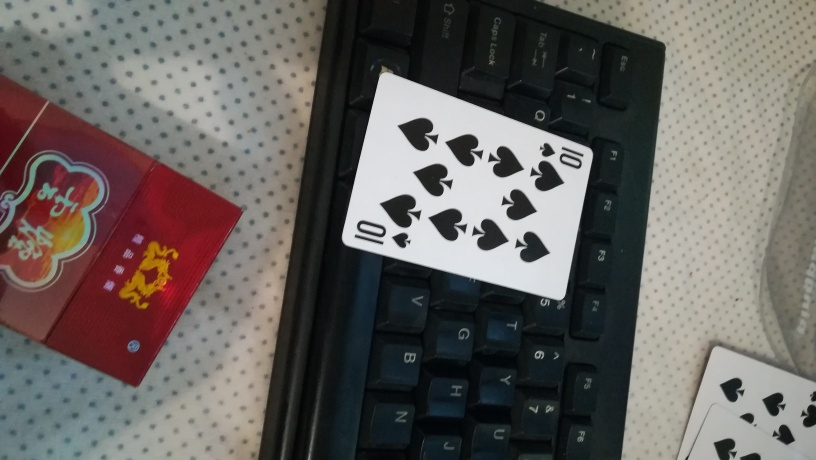ht 10: (338, 70, 593, 307)
